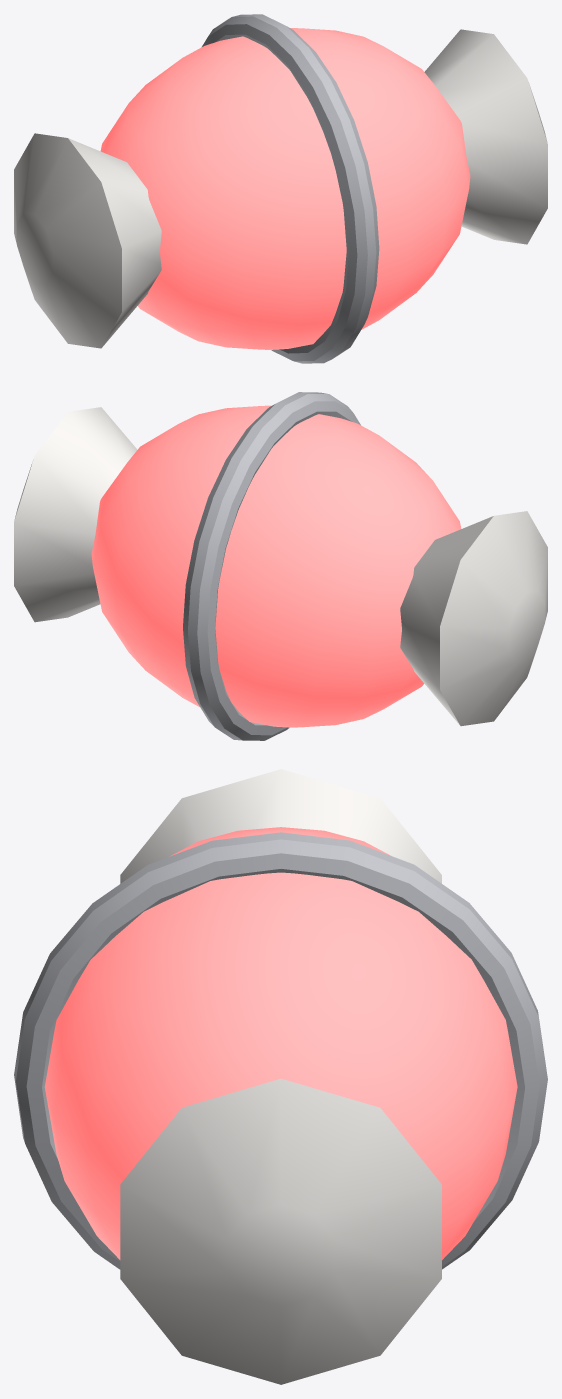
File: ITEM_CandyCell_Red.fbx
3 renders of one model, top to bottom at view 1: azimuth 30°, elevation 25°; view 2: azimuth 150°, elevation 25°; view 3: azimuth 270°, elevation 25°, orthographic. The views are drawn at different scales.
Visible parts, largest first — view 1: ITEM_CandyCell_Red; view 2: ITEM_CandyCell_Red; view 3: ITEM_CandyCell_Red.
Boxes of the visible parts, x1=… form: ITEM_CandyCell_Red: x1=14, y1=14, x2=547, y2=363; ITEM_CandyCell_Red: x1=14, y1=392, x2=547, y2=740; ITEM_CandyCell_Red: x1=14, y1=769, x2=547, y2=1384.
Size of the model in its own units: 0.6 by 0.379 by 0.3791.
